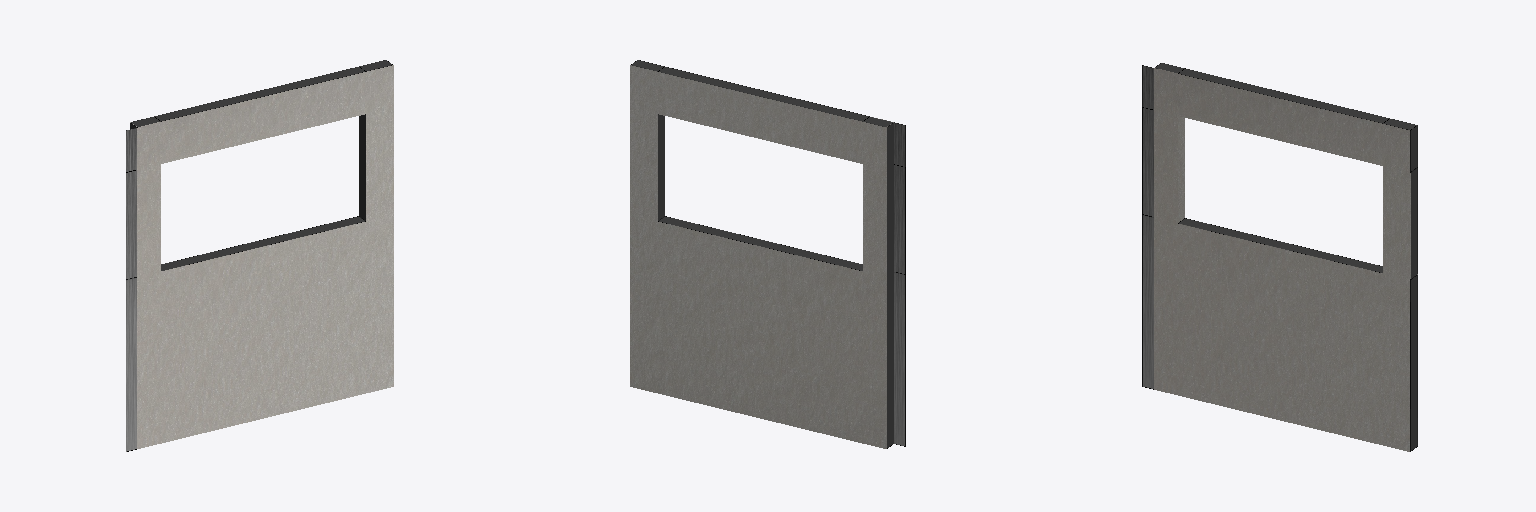
3 views of the same model, side by side, from view 1: azimuth 30°, elevation 25°; view 2: azimuth 150°, elevation 25°; view 3: azimuth 330°, elevation 25° (orthographic).
Visible parts, largest first — view 1: Plane; view 2: Plane; view 3: Plane.
Boxes of the visible parts, box(x1,y1,x2,y2) form: Plane: box(126, 60, 393, 451); Plane: box(630, 60, 905, 448); Plane: box(1142, 63, 1417, 451).
Bounding box in the file's own units: 4.14 × 4.76 × 0.1944.
1 materials, 1 textured.